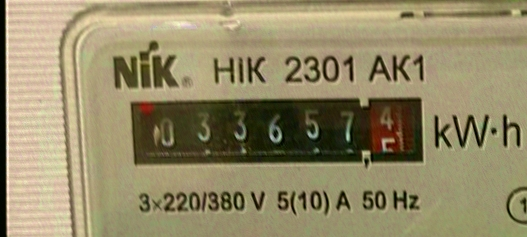0: (157, 114, 179, 151)
3: (195, 110, 215, 145), (231, 108, 250, 143)
4: (378, 103, 398, 133)
5: (301, 106, 324, 142)
6: (265, 111, 286, 146)
7: (338, 108, 357, 144)
screen: (119, 91, 433, 174)
